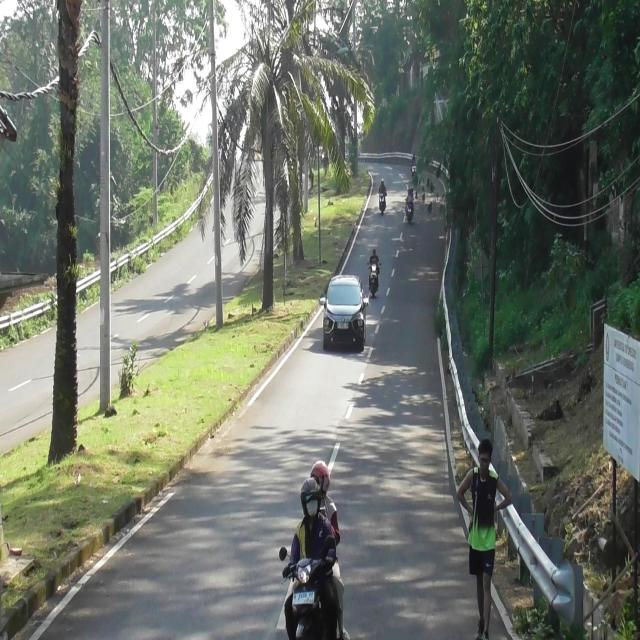motorcycle: (276, 535, 345, 638), (369, 262, 380, 294), (376, 191, 387, 214), (404, 198, 414, 223), (411, 162, 418, 184)
person: (282, 479, 338, 579), (307, 458, 341, 546), (369, 250, 381, 271), (378, 179, 387, 198), (405, 189, 413, 204), (411, 155, 418, 167), (409, 187, 414, 198)
rider_region: (282, 457, 349, 640), (368, 250, 380, 294), (377, 174, 387, 215), (404, 187, 415, 223), (408, 154, 418, 181)
